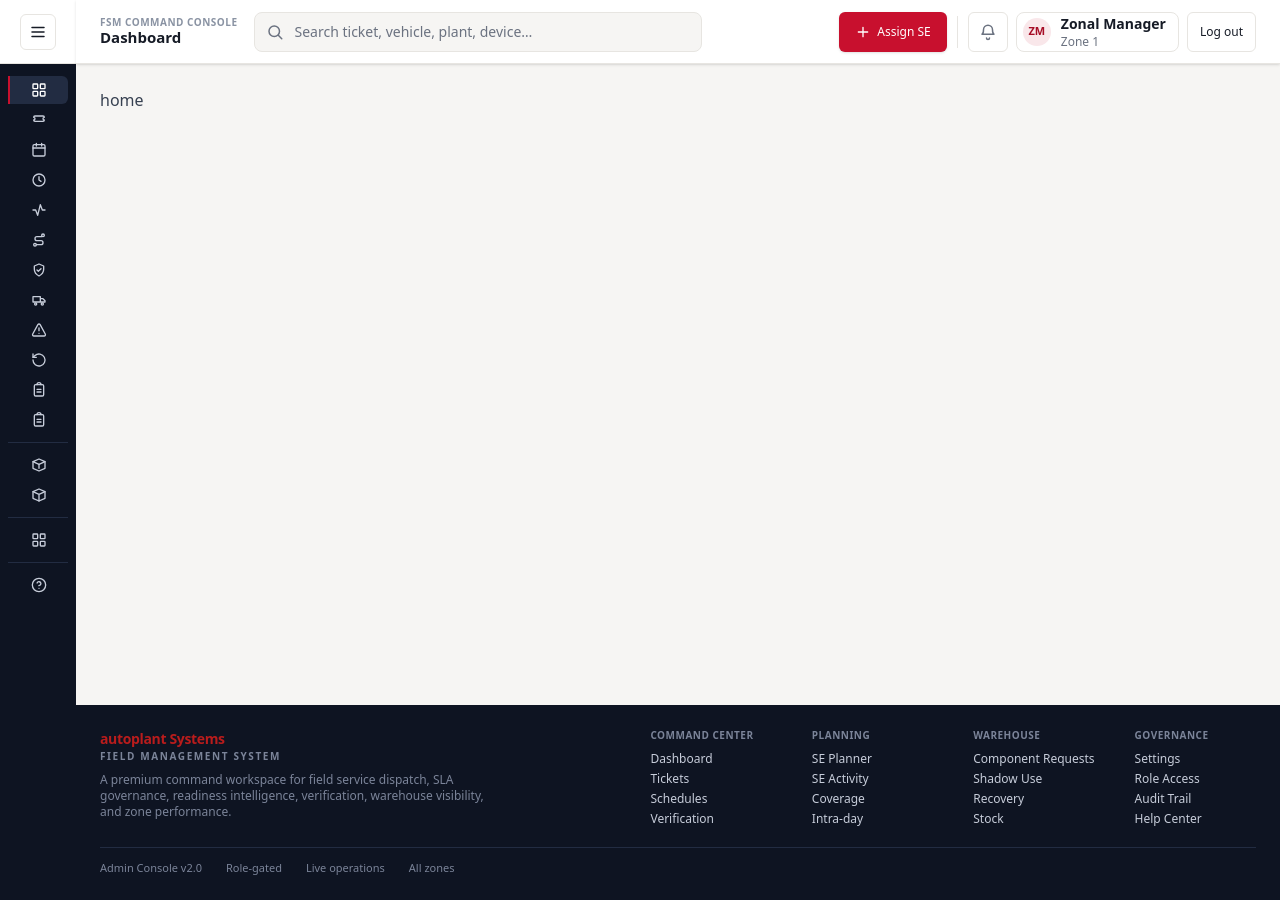
it: Collapsible sidebar › surfaces a label tooltip when a collapsed item is hovered
Hover over the 7th link named "verification review".
mouse_move(38, 270)  # box [8,256,68,284]
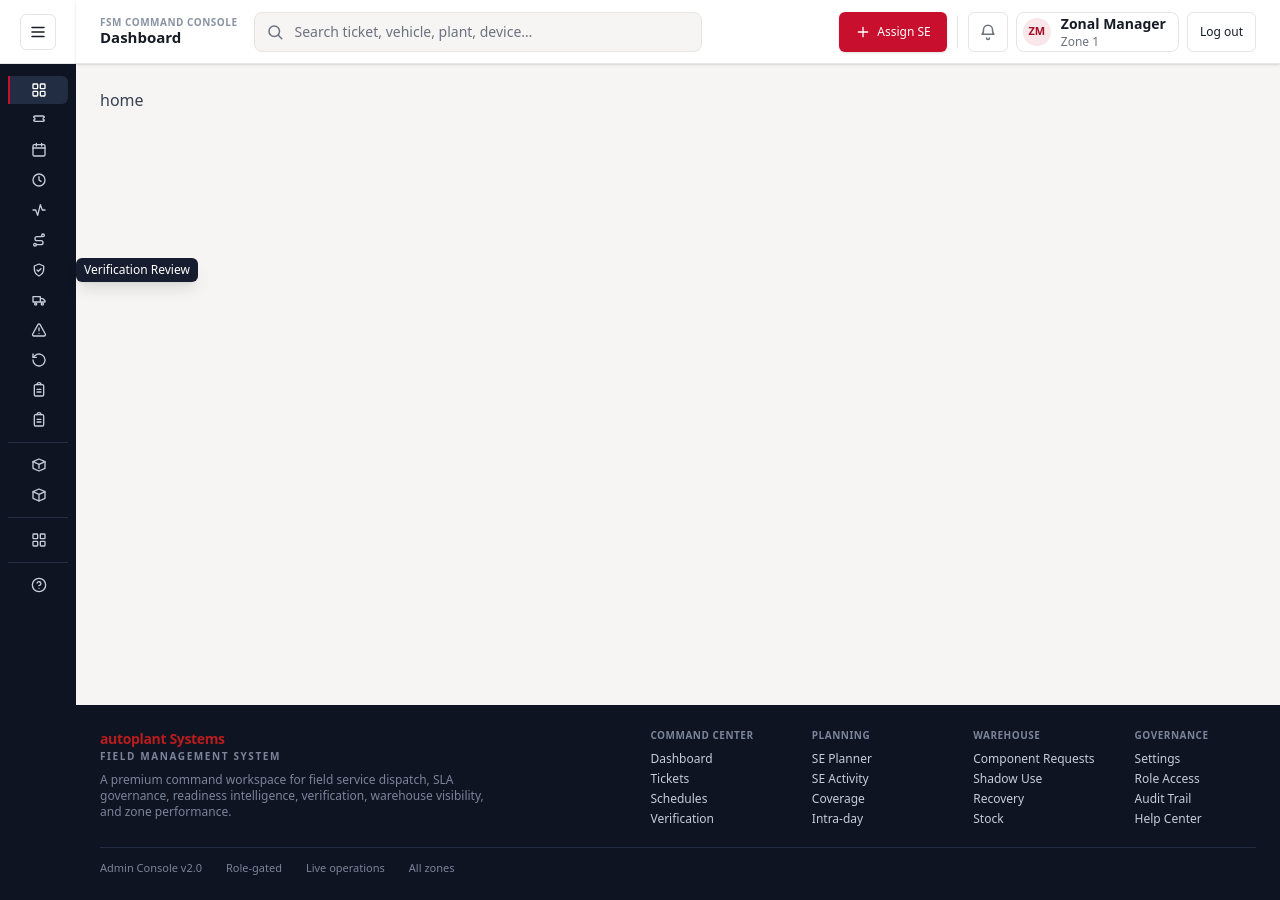
Expected: the tooltip reads "Verification Review", [84,261,190,278]
